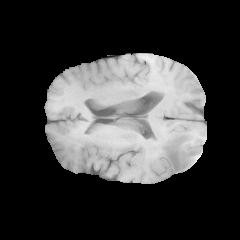glioma: (135, 133, 201, 183)
